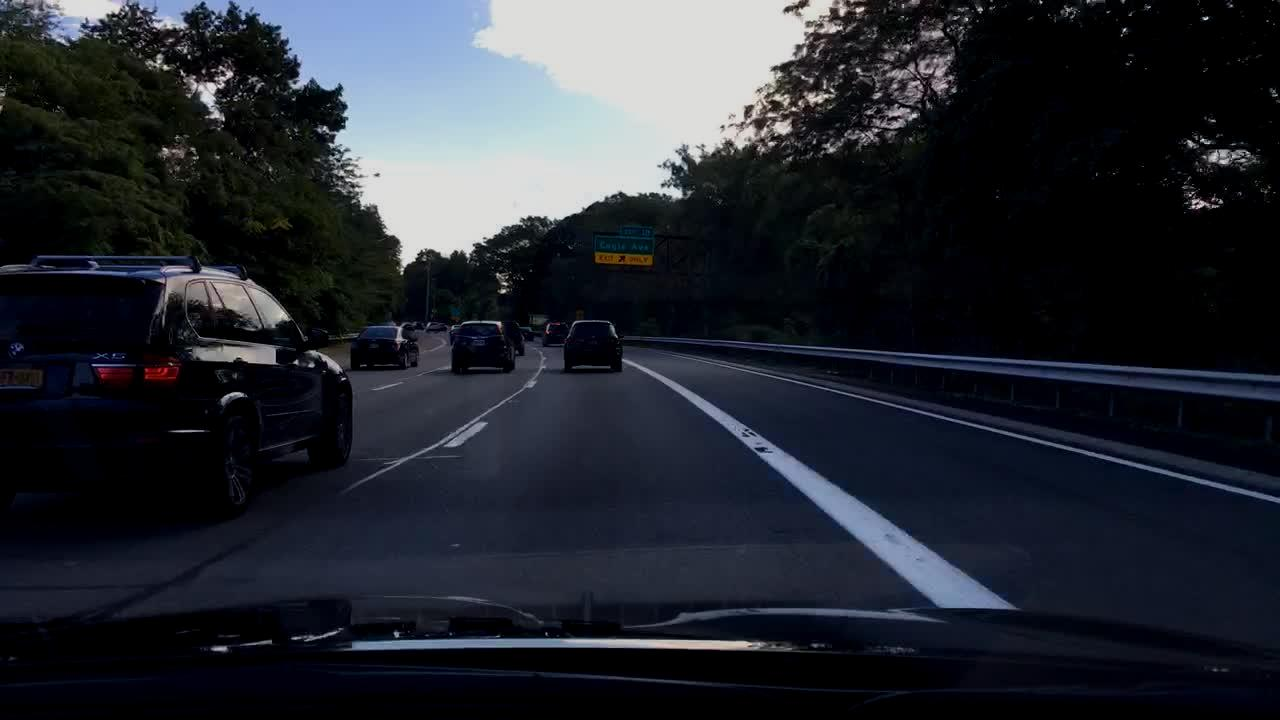bmw: (1, 339, 38, 368)
